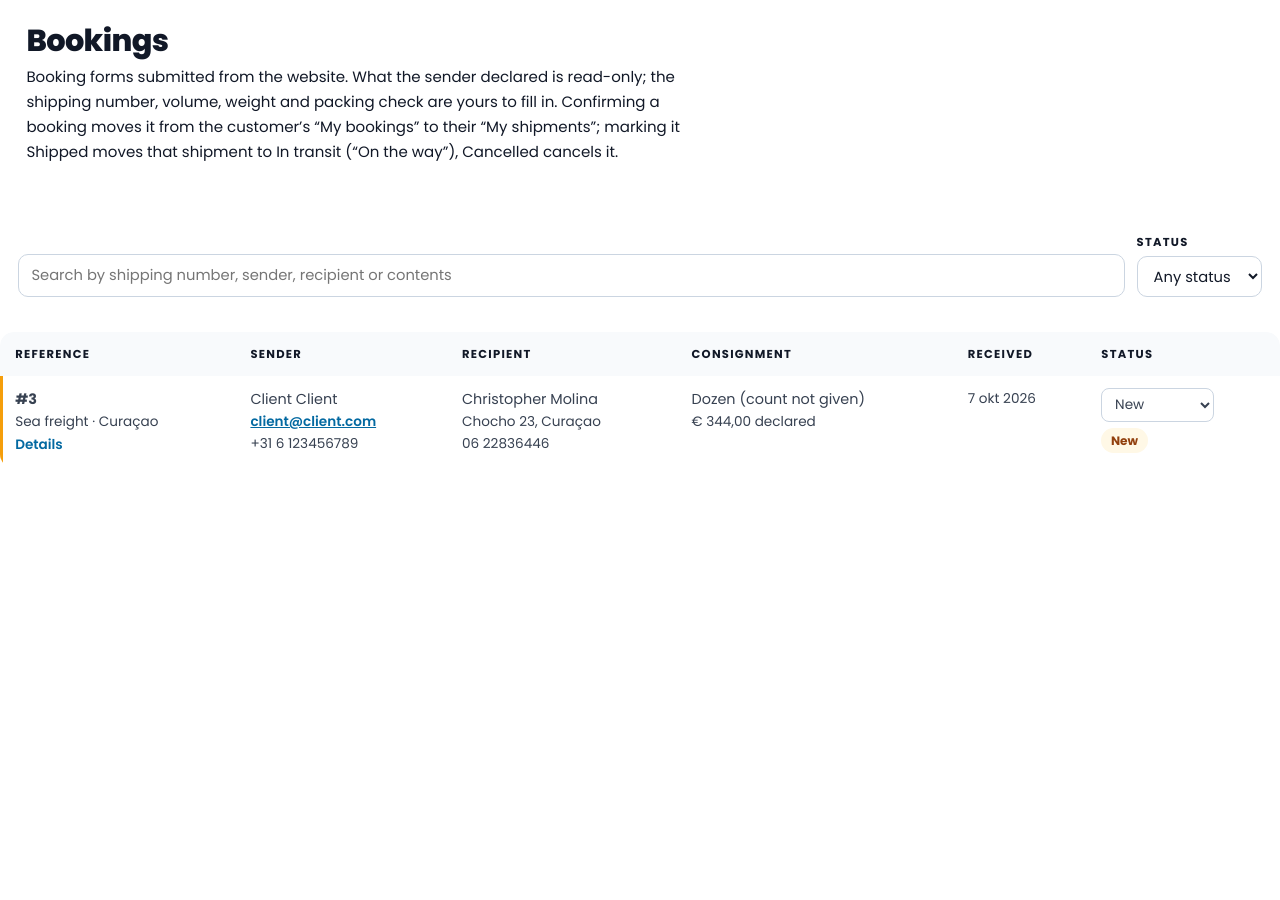
Test: Bookings › sends a booking with no number to the warehouse, which gives it the next PLSM number
Click the button "Details": (39, 444) [15,434,63,455]
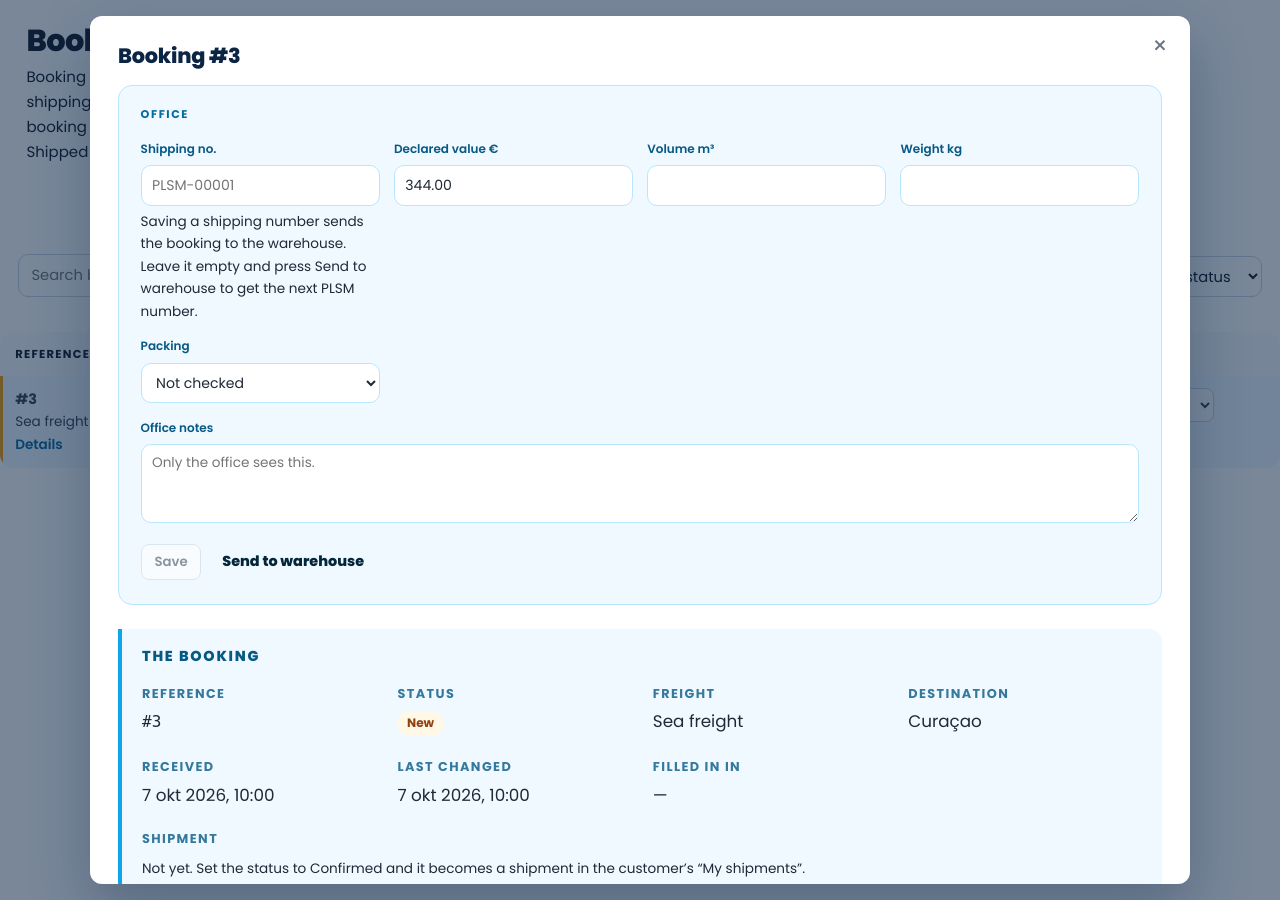
Click the button "Send to warehouse": (293, 562) [201,539,385,585]
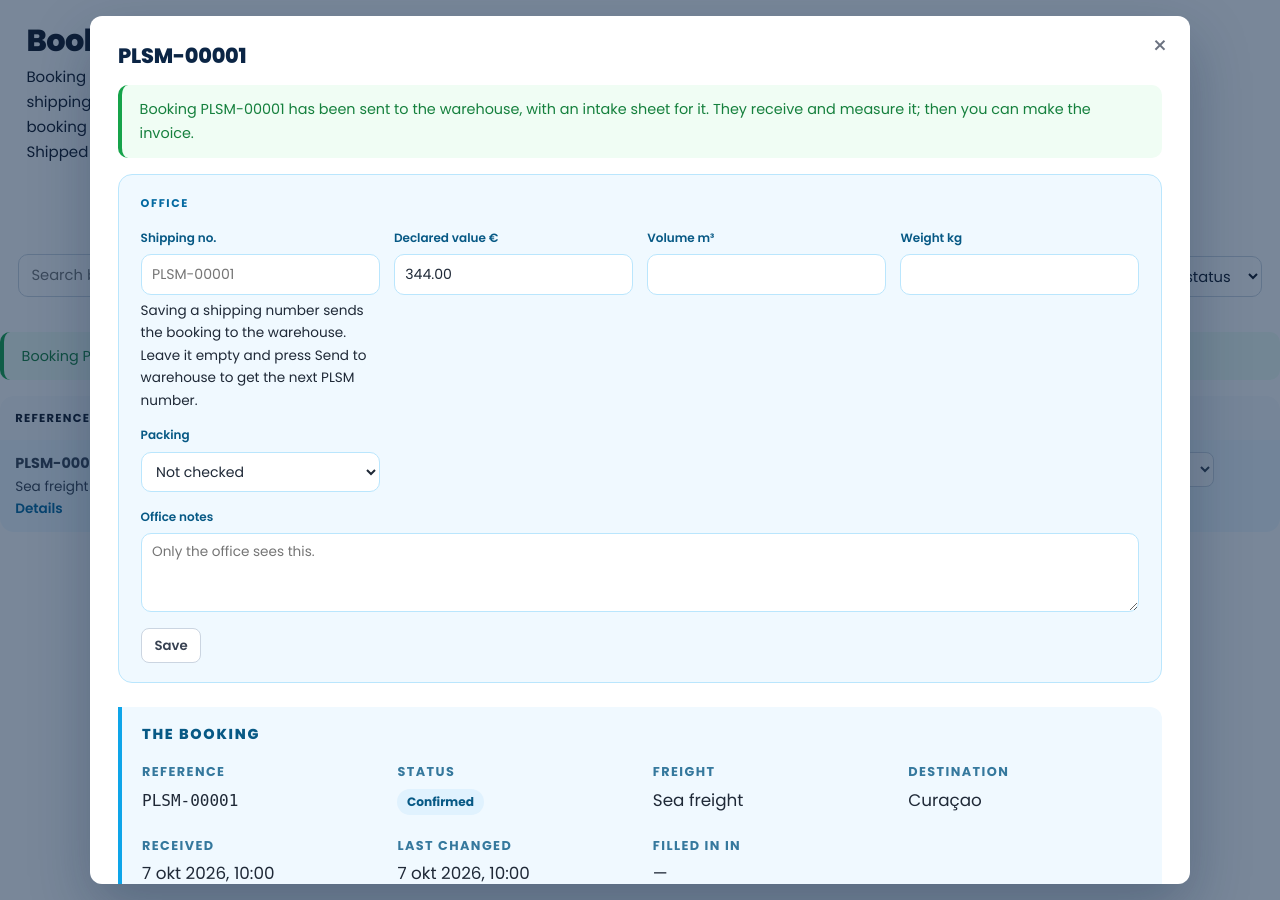
Expected: the 1st text "Booking PLSM-00001 has been sent to the warehouse" is shown, [140,99,1091,143]
